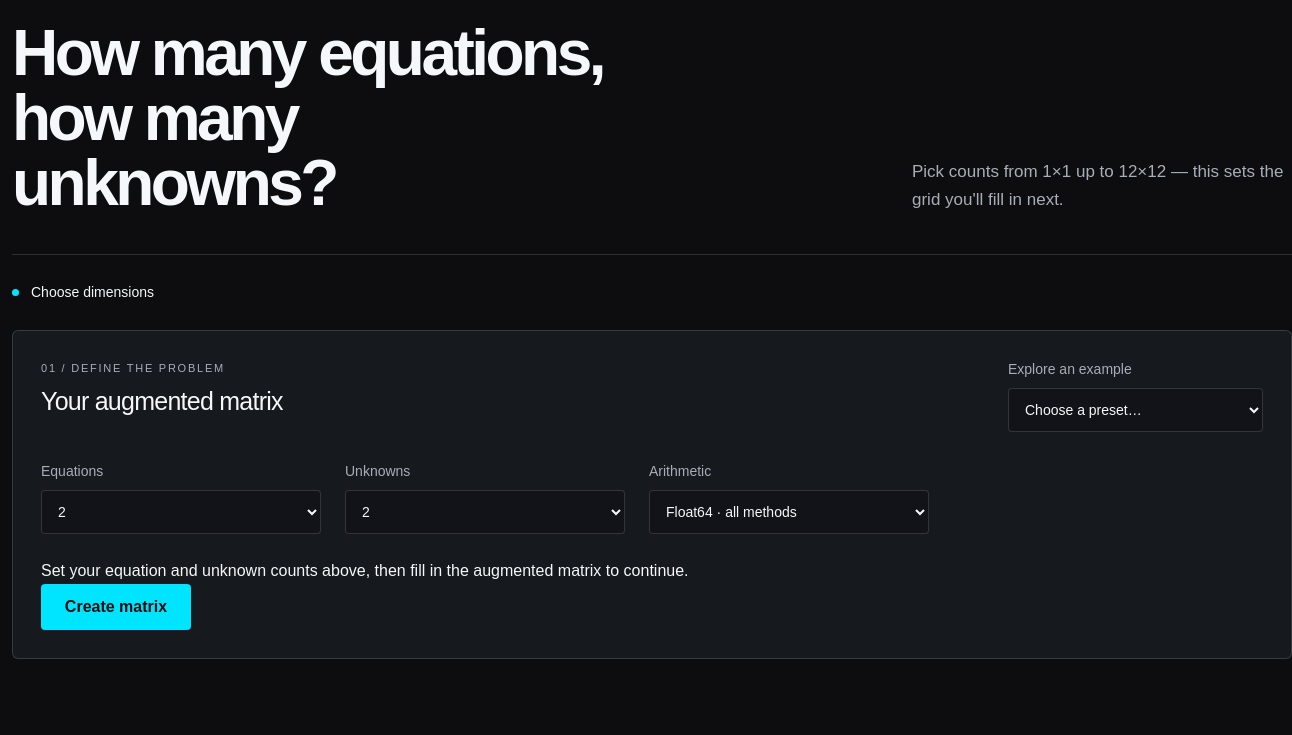
Test case: http errors remain separate from mathematical outcomes
The width and height of the screenshot is (1292, 735).
Select "Unique · a gentle start" in the dropdown labelled "Explore an example": (1136, 410) [1008,388,1263,432]
(page scrolled)
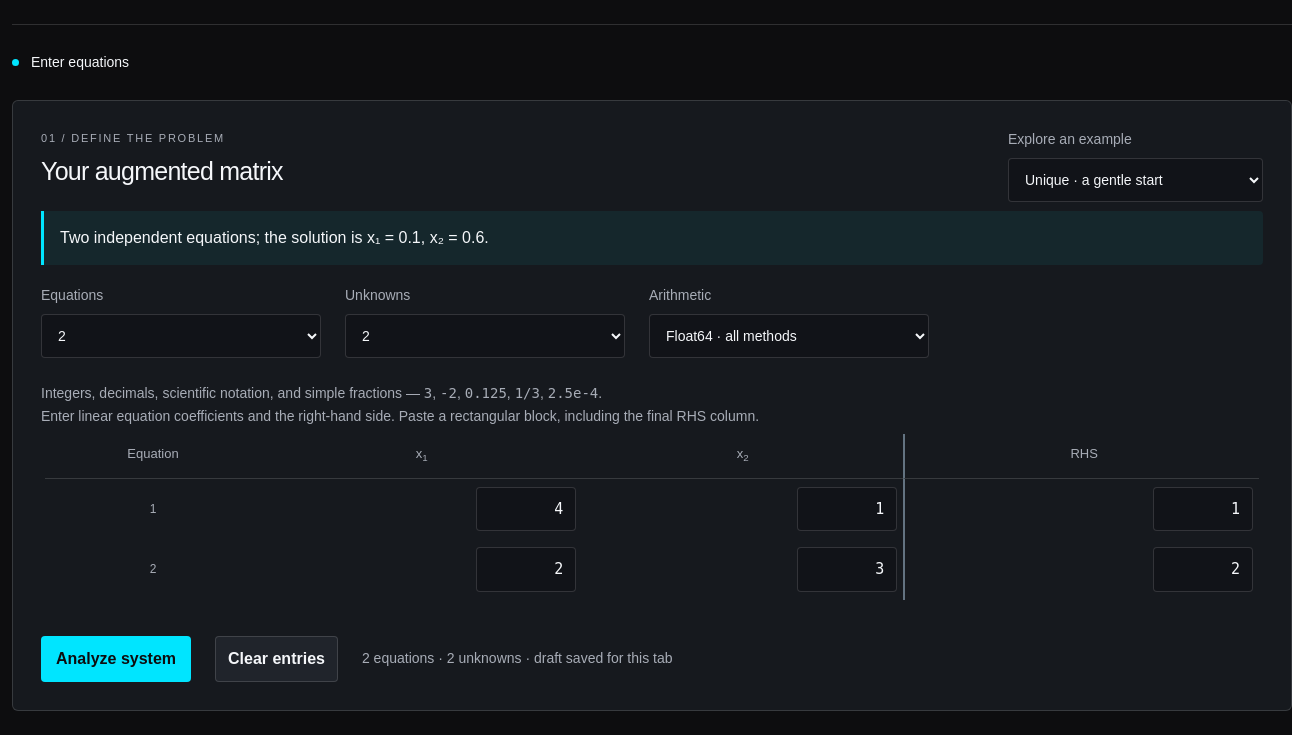
Click the button "Analyze system": (116, 659) [41,636,191,682]
(page scrolled)
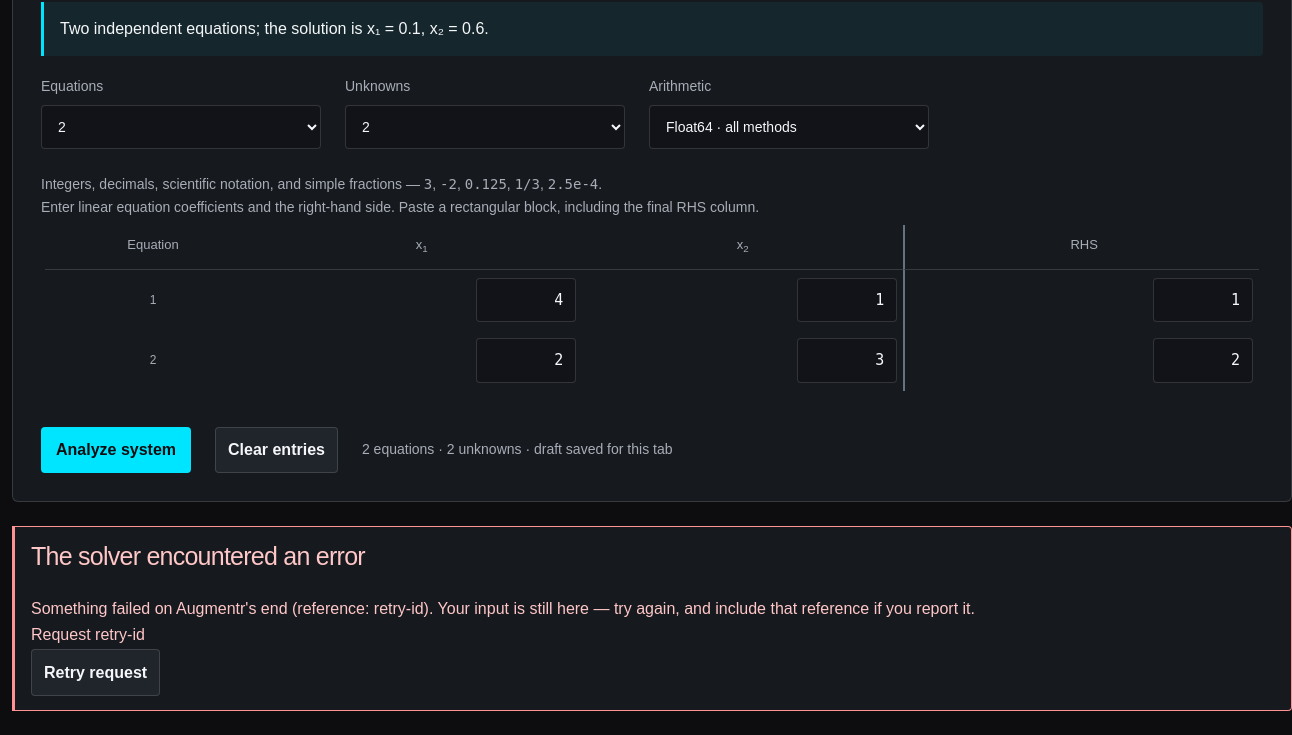
Check: the heading "The solver encountered an error" is shown, box [31,542,365,570]
Check: the text "Request retry-id" is shown, box [31,626,145,643]
